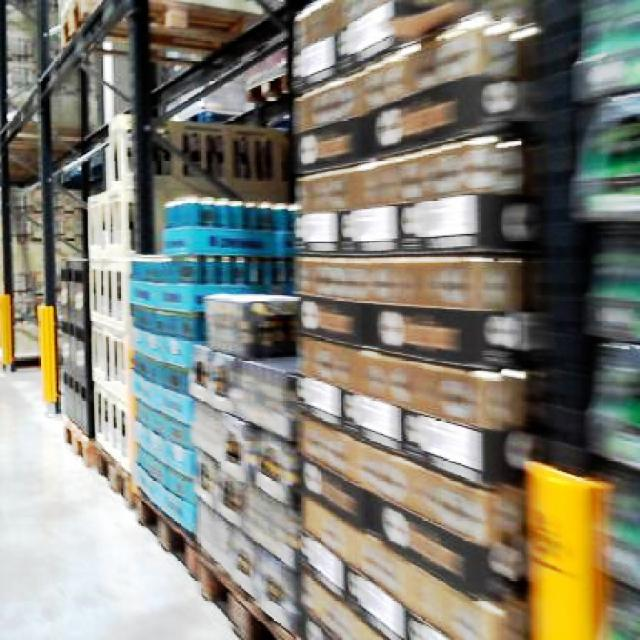ground: (2, 358, 258, 640)
pallet: (288, 0, 543, 638)
